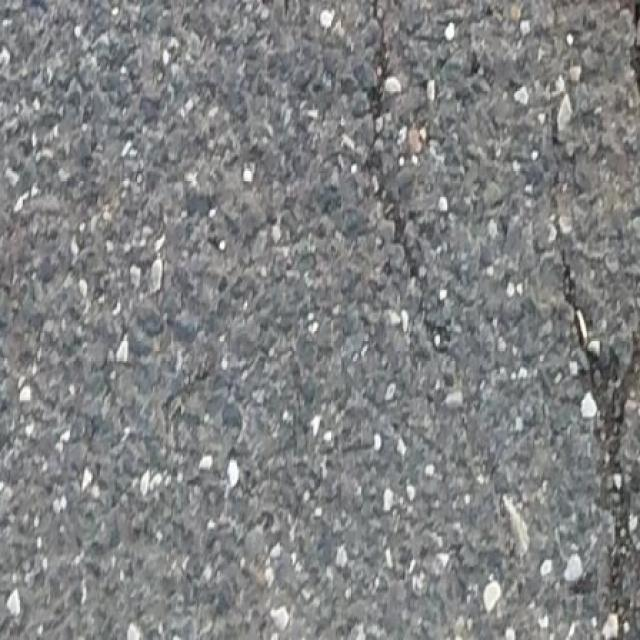Vertical Crack: (545, 183, 640, 638), (367, 0, 460, 395)
